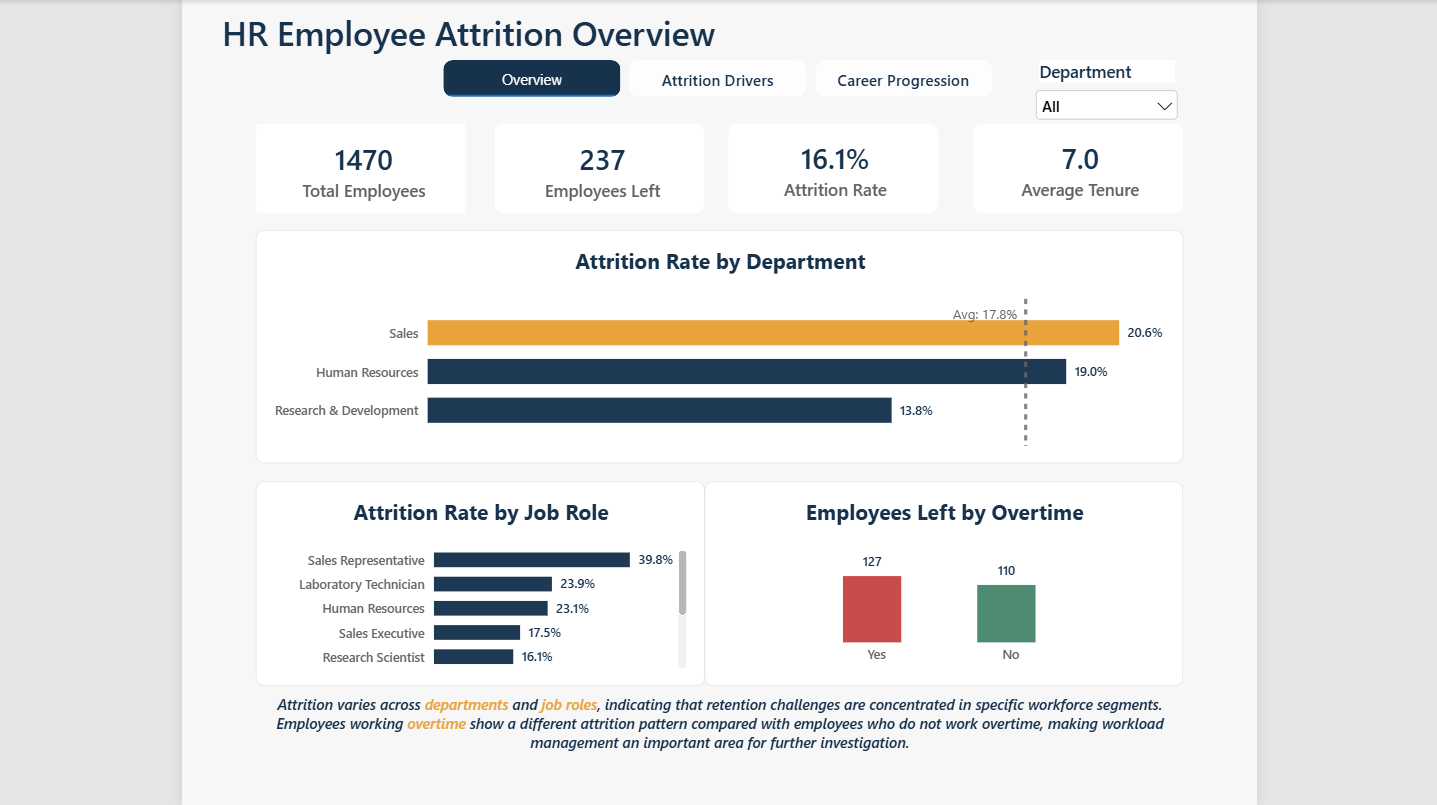

The dashboard page shown, as its layout file describes it:
{"tool":"powerbi","page":{"name":"Overview","canvas":[1024,768],"ordinal":0},"visuals":[{"type":"cardVisual","fields":{"Data":["vw_career_progression.Total Employees Dynamic"]},"box":[70.3,117.9,200,85],"z":0},{"type":"cardVisual","fields":{"Data":["vw_employee_factors.Employees Left Dynamic"]},"box":[297.8,117.9,200,85],"z":1000},{"type":"textbox","box":[38,8.9,482.4,48],"z":2000},{"type":"cardVisual","fields":{"Data":["vw_employee_factors.Attrition Rate Dynamic"]},"box":[520.5,117.9,200,85],"z":3000},{"type":"cardVisual","fields":{"Data":["vw_employee_factors.Average Tenure Dynamic"]},"box":[753.9,117.9,200,85],"z":4000},{"type":"clusteredBarChart","title":"Attrition Rate by Department","fields":{"Category":["vw_employee_factors.Department"],"Y":["vw_employee_factors.Department Attrition Rate Dynamic"]},"box":[70.3,219.2,883.8,222.7],"z":5000},{"type":"clusteredBarChart","title":"Attrition Rate by Job Role","fields":{"Category":["vw_employee_factors.JobRole"],"Y":["vw_employee_factors.Job Role Attrition Rate Dynamic"]},"box":[70.3,458.6,427.7,195.4],"z":6000},{"type":"clusteredColumnChart","title":"Employees Left by Overtime","fields":{"Category":["vw_employee_factors.OverTime"],"Y":["vw_employee_factors.Attrition Count"]},"box":[497.9,458.6,456.2,195.3],"z":7000},{"type":"slicer","fields":{"Values":["vw_employee_factors.Department"]},"box":[808.7,57.2,145.3,59.6],"z":8000},{"type":"pageNavigator","box":[249.5,56.9,525,35],"z":9000},{"type":"textbox","box":[70.3,661,884.4,74.8],"z":10000}]}

Visuals, with their boxes on the page's 1024x768 design canvas (x1, y1, x2, y2). These are canvas units, not pixel positions in the 1437x805 screenshot, which may show the page scaled, cropped or inside an application window:
cardVisual - vw_career_progression.Total Employees Dynamic: {"left": 70, "top": 118, "right": 270, "bottom": 203}
cardVisual - vw_employee_factors.Employees Left Dynamic: {"left": 298, "top": 118, "right": 498, "bottom": 203}
textbox: {"left": 38, "top": 9, "right": 520, "bottom": 57}
cardVisual - vw_employee_factors.Attrition Rate Dynamic: {"left": 520, "top": 118, "right": 720, "bottom": 203}
cardVisual - vw_employee_factors.Average Tenure Dynamic: {"left": 754, "top": 118, "right": 954, "bottom": 203}
"Attrition Rate by Department" clusteredBarChart: {"left": 70, "top": 219, "right": 954, "bottom": 442}
"Attrition Rate by Job Role" clusteredBarChart: {"left": 70, "top": 459, "right": 498, "bottom": 654}
"Employees Left by Overtime" clusteredColumnChart: {"left": 498, "top": 459, "right": 954, "bottom": 654}
slicer - vw_employee_factors.Department: {"left": 809, "top": 57, "right": 954, "bottom": 117}
pageNavigator: {"left": 250, "top": 57, "right": 774, "bottom": 92}
textbox: {"left": 70, "top": 661, "right": 955, "bottom": 736}
